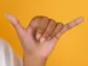clockwise: (3, 7, 85, 56)
